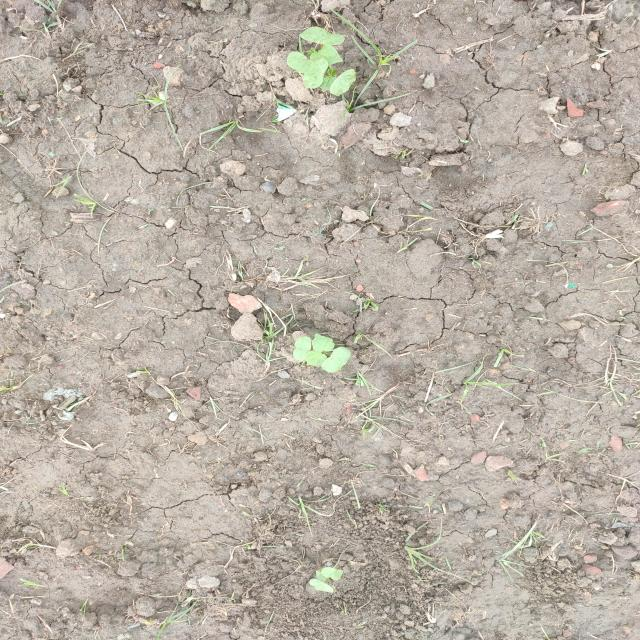seedling_s4: (300, 26, 345, 45), (303, 58, 329, 88), (321, 347, 351, 373), (309, 43, 343, 65), (330, 69, 356, 95), (287, 51, 316, 73), (293, 336, 312, 361), (312, 333, 335, 352), (309, 578, 334, 593), (305, 350, 327, 366), (321, 567, 343, 581), (319, 75, 337, 92), (316, 571, 327, 582)
